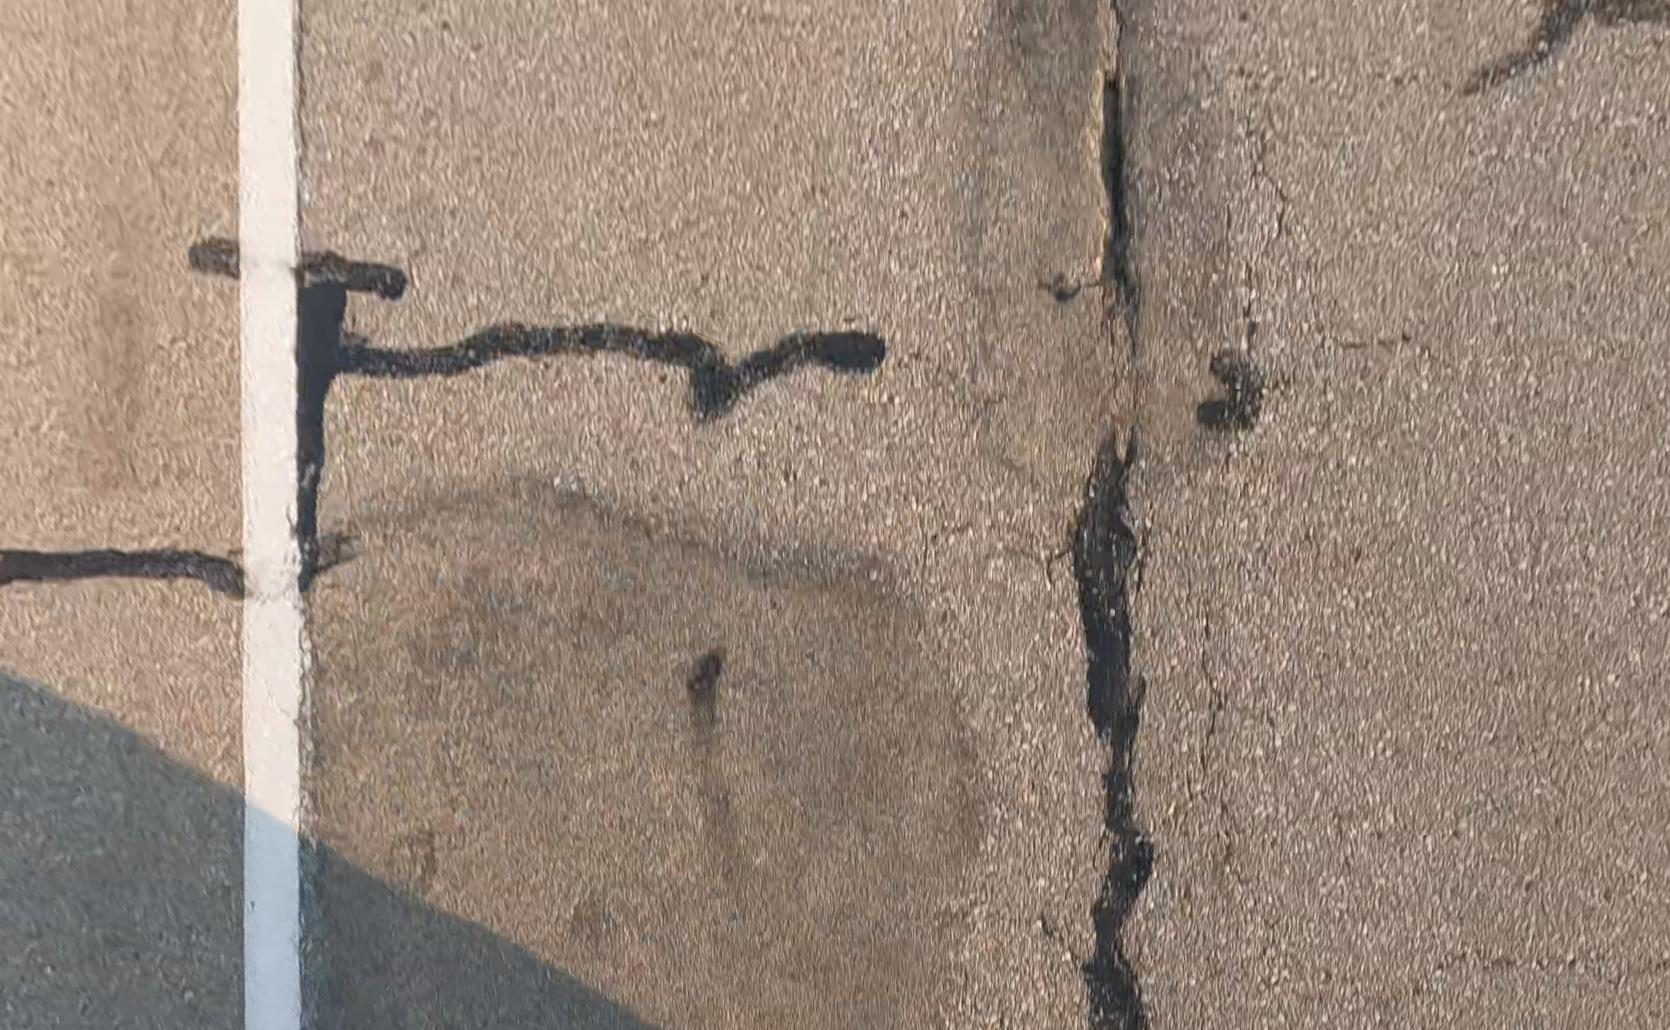pothole_patch_poor: (965, 0, 1250, 495)
